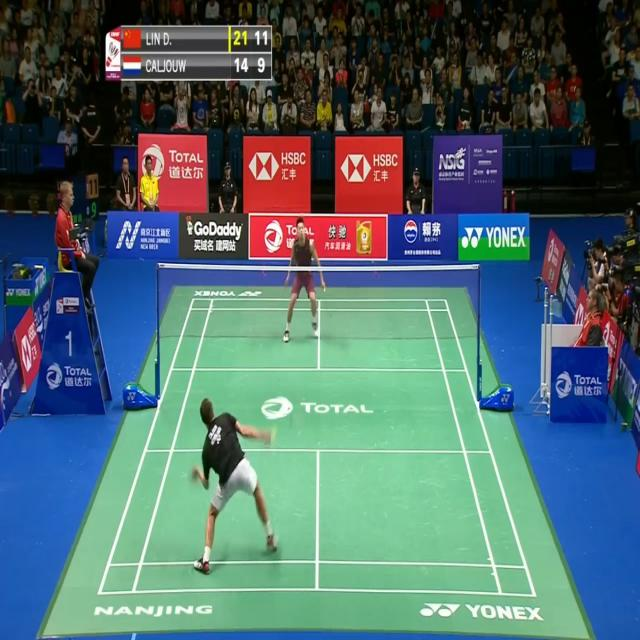Player1: (189, 397, 285, 578)
Player2: (274, 216, 326, 345)
